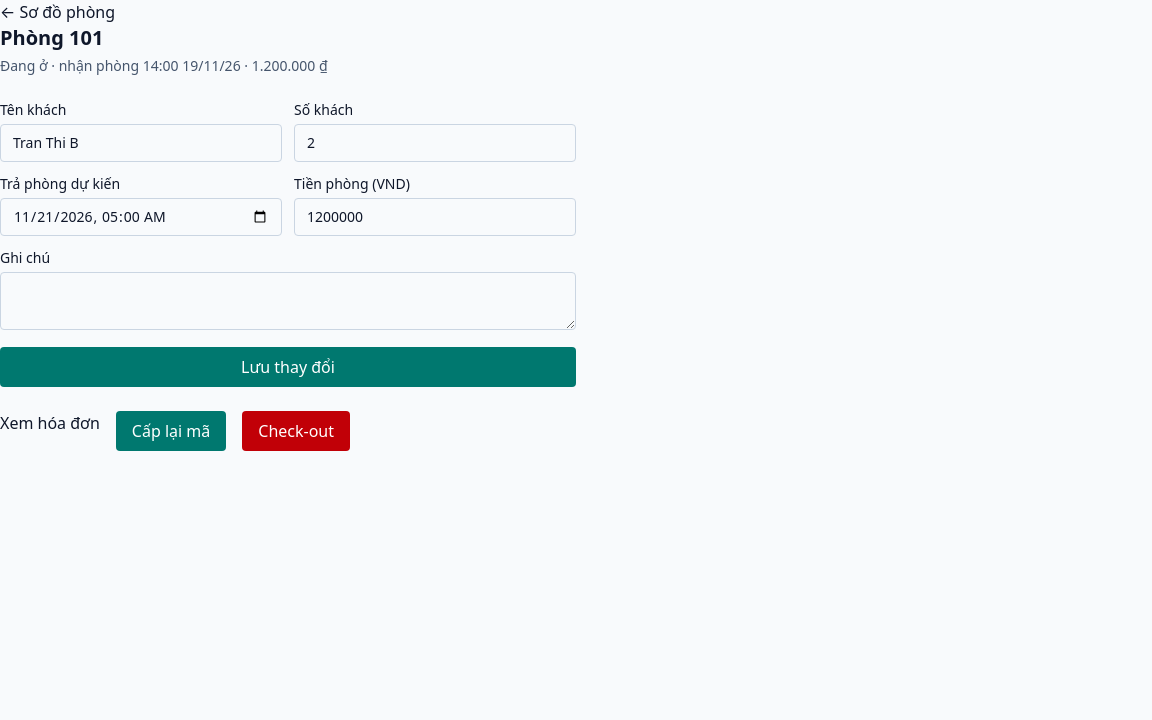
Test: StayDetail › reports any other check-out failure
Click the button "Check-out". click: x=296, y=431
box: [242, 411, 350, 451]
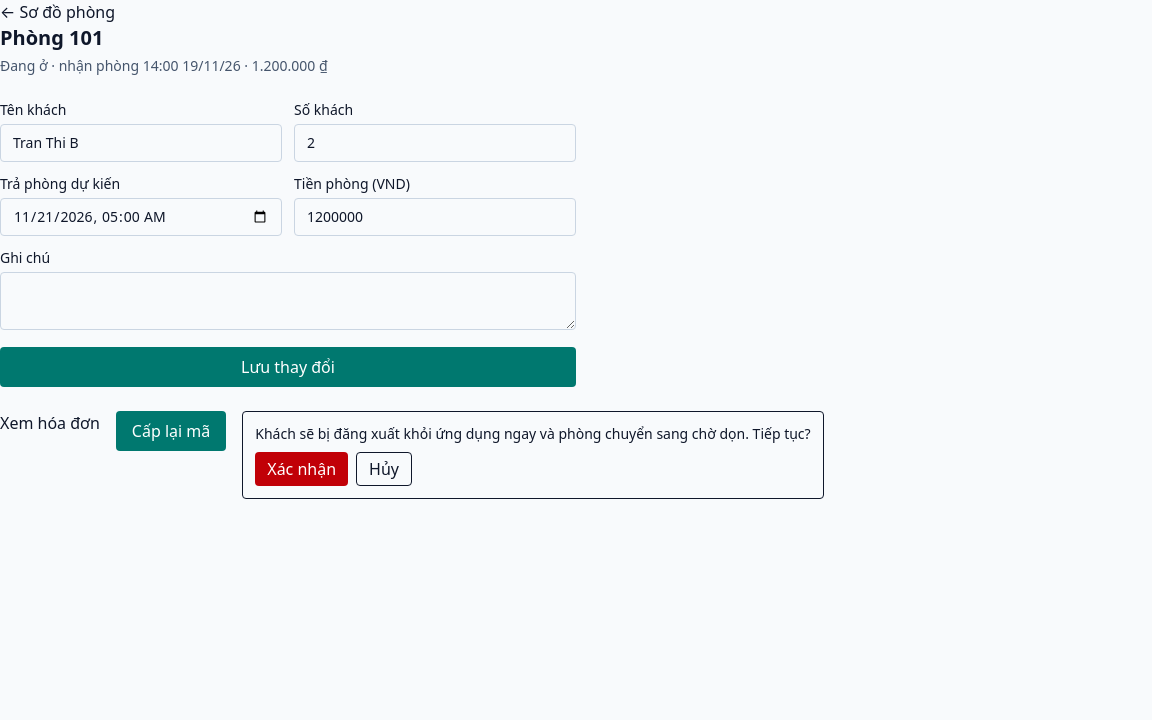
Click the button "Xác nhận". click: x=302, y=469
box: [255, 452, 348, 486]
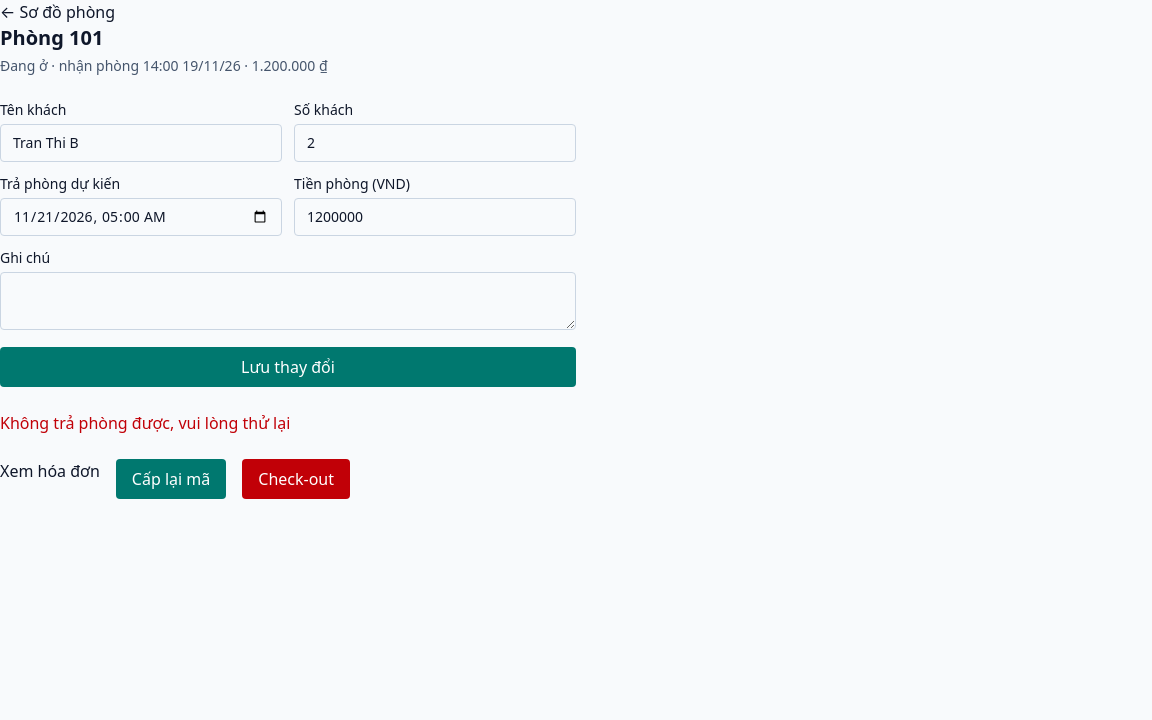
Result: the text "Không trả phòng được, vui lòng thử lại" is shown at [0, 412, 290, 434]
